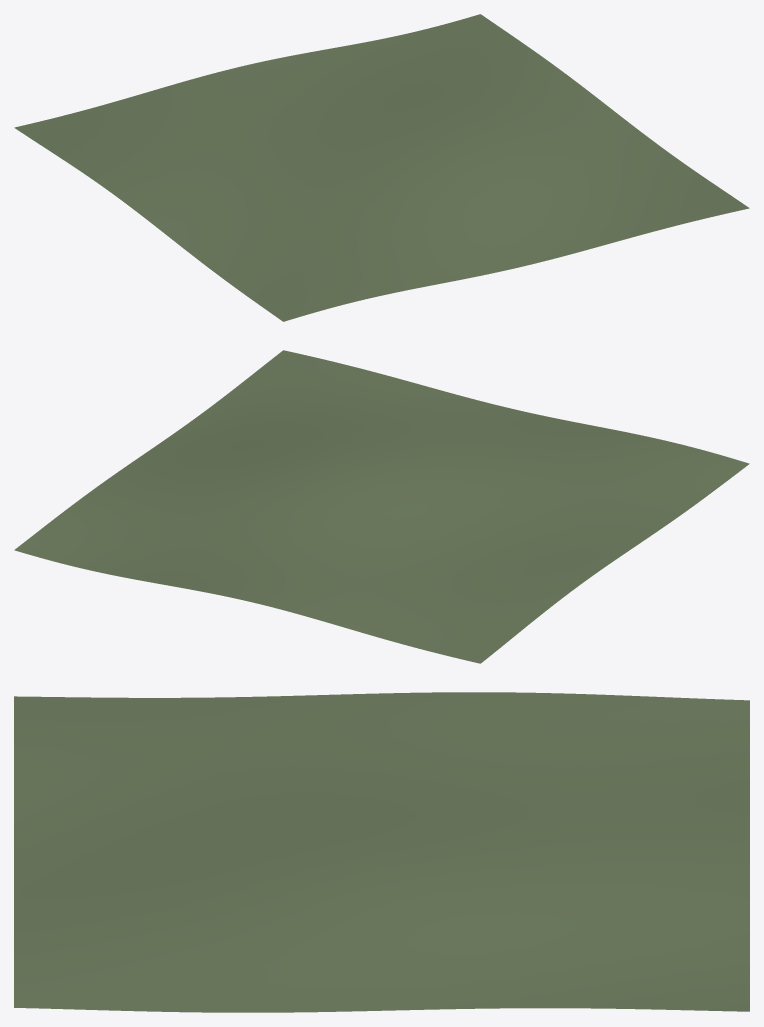
The model's file is pine_misty_bowl.obj.
The picture shows the model from 3 angles, top to bottom: view 1: azimuth 30°, elevation 25°; view 2: azimuth 150°, elevation 25°; view 3: azimuth 270°, elevation 25°; orthographic projection. The views are drawn at different scales.
Bounding box in the file's own units: 179 × 5.89 × 179.
